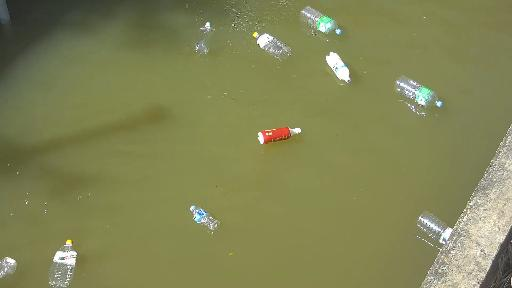plastic: (378, 66, 471, 133), (22, 235, 96, 288), (398, 203, 461, 258), (181, 16, 243, 71), (291, 0, 358, 40), (228, 120, 323, 143), (186, 190, 224, 245), (242, 29, 295, 62), (319, 48, 367, 84), (0, 237, 34, 287)
